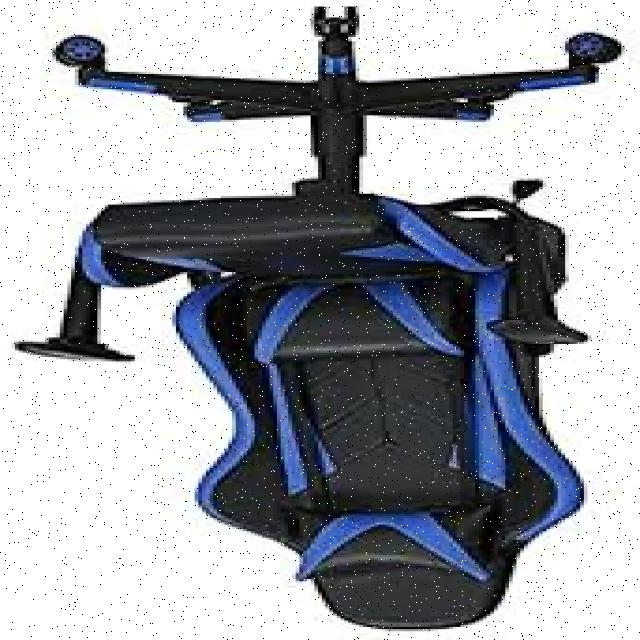bottle: (13, 0, 628, 630)
